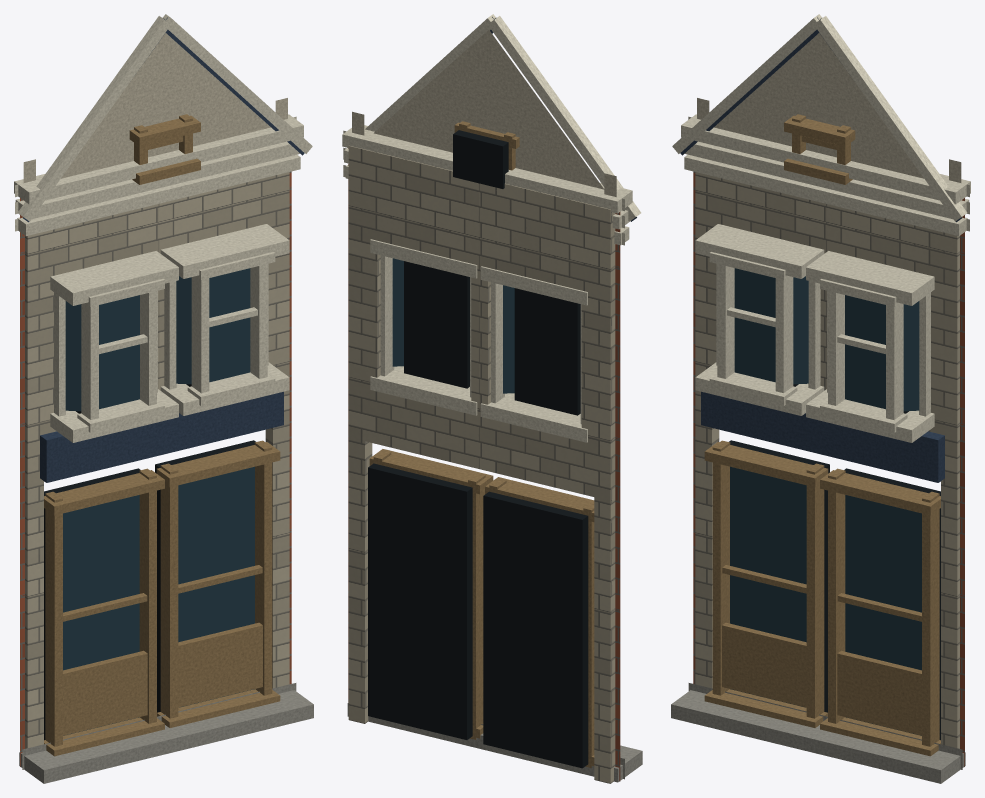
Rendered from BUSS7_lod2.glb.
3 views of the same model, side by side, from view 1: azimuth 30°, elevation 25°; view 2: azimuth 150°, elevation 25°; view 3: azimuth 330°, elevation 25° (orthographic).
Parts seen in each view (by area): view 1: BUSS7_FRONT_LOD2; view 2: BUSS7_FRONT_LOD2; view 3: BUSS7_FRONT_LOD2.
Boxes of the visible parts, box(x1,y1,x2,y2) form: BUSS7_FRONT_LOD2: box(14, 14, 313, 783); BUSS7_FRONT_LOD2: box(342, 14, 642, 783); BUSS7_FRONT_LOD2: box(671, 14, 970, 783).
Bounding box in the file's own units: 3.54 × 8.46 × 0.765.
10 materials, 8 textured.
